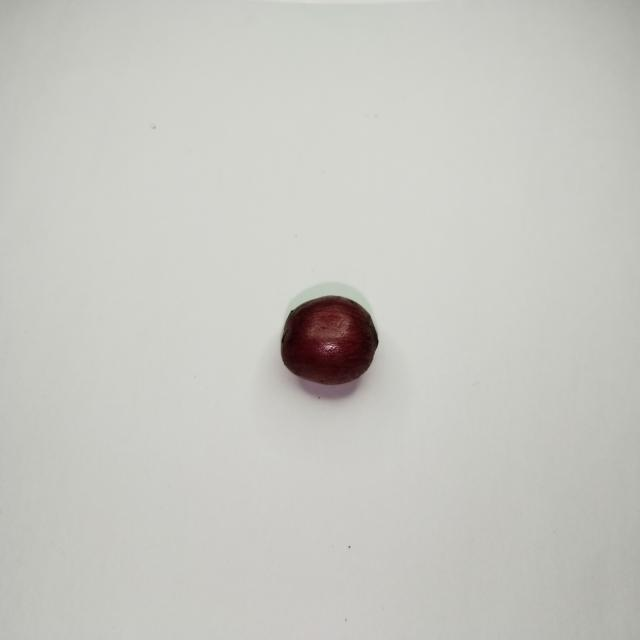Sano: (281, 297, 377, 384)
